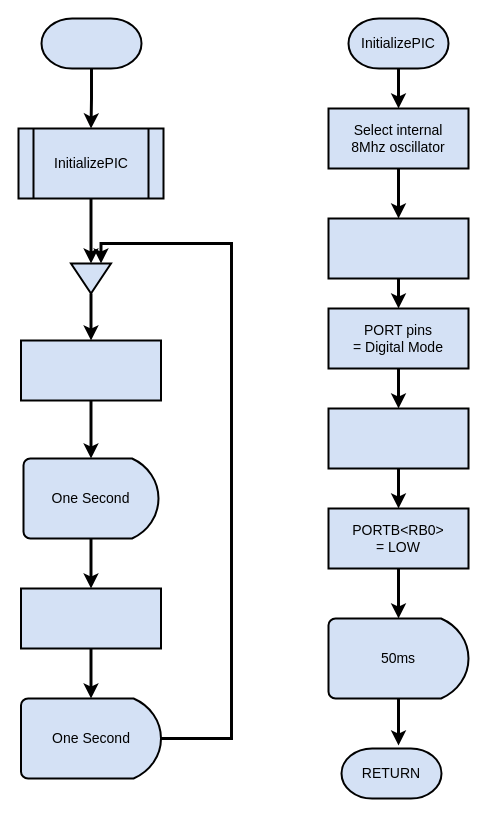
Some shapes in this 486 by 816 pixel diagram are drawn without their labels. The centre of each missing label's shape, as x and y in pixels:
"Disable Interrupts" goes at (398,248).
"LED = HIGH" goes at (91,370).
"LED = LOW" goes at (91,618).
"PORTB<RB0> = Output" goes at (398,438).
"START" goes at (91,43).
